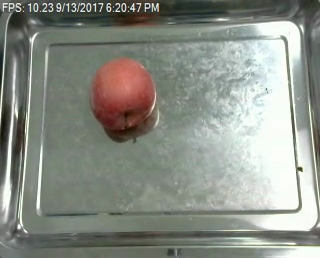Apple: (87, 56, 160, 135)
